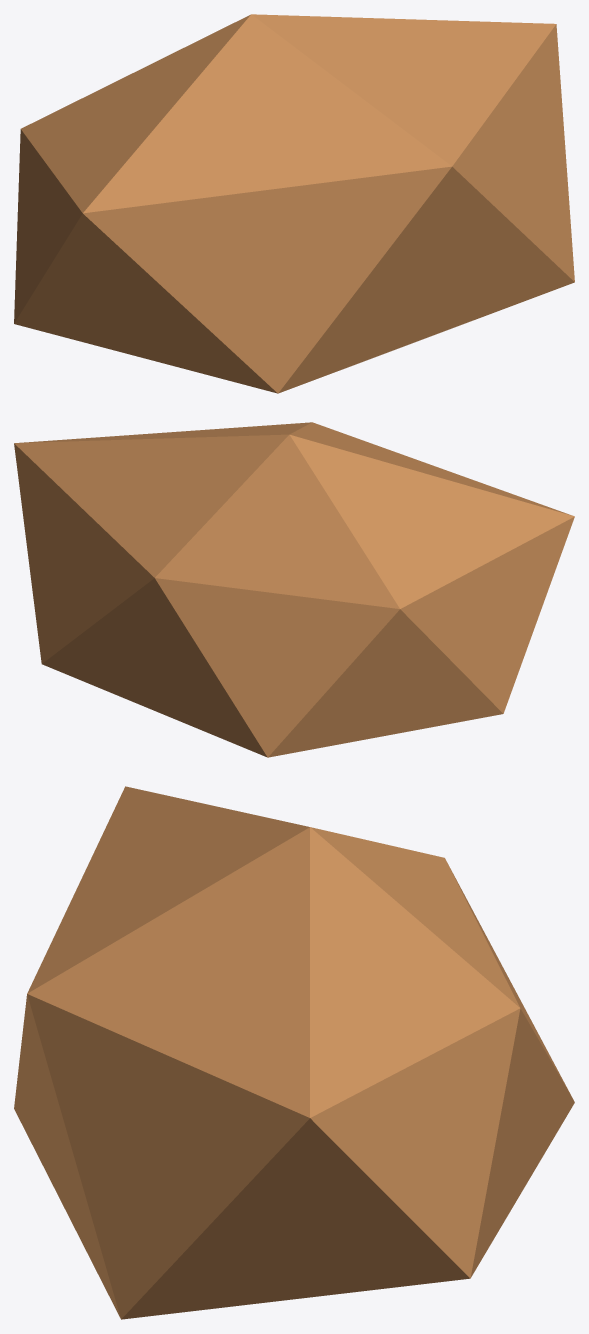
File: klippa_1.glb
3 views of the same model, one above another, from view 1: azimuth 30°, elevation 25°; view 2: azimuth 150°, elevation 25°; view 3: azimuth 270°, elevation 25° (orthographic). The views are drawn at different scales.
Parts seen in each view (by area): view 1: klippa_1; view 2: klippa_1; view 3: klippa_1.
Boxes of the visible parts, x1,y1,x2,y2 form: klippa_1: (14,14,574,393); klippa_1: (14,422,574,757); klippa_1: (14,786,574,1319).
Bounding box in the file's own units: 4.05 × 2.35 × 2.88.
